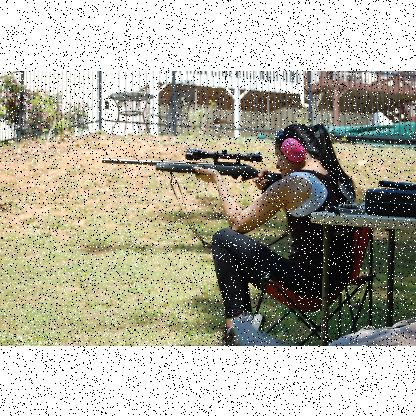gun: (101, 147, 289, 248)
